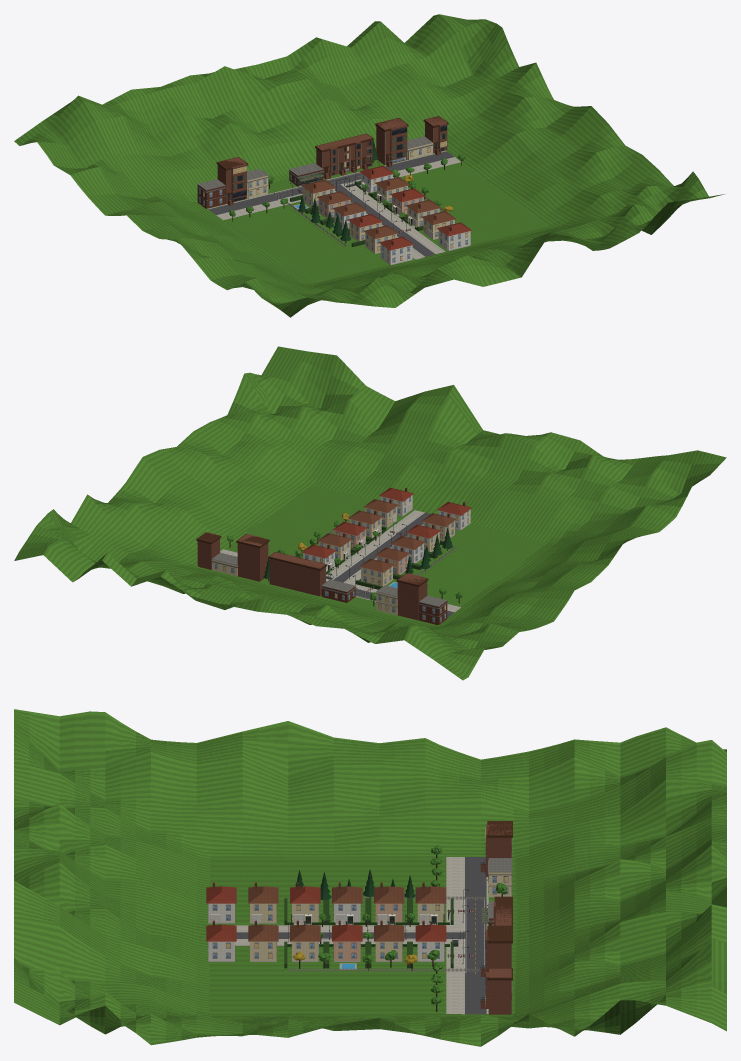
File: Suburbs.fbx
3 views of the same model, one above another, from view 1: azimuth 30°, elevation 25°; view 2: azimuth 150°, elevation 25°; view 3: azimuth 270°, elevation 25° (orthographic). The views are drawn at different scales.
Parts seen in each view (by area): view 1: Gnd_Hills, Ext_Lawns, Bldg_Upkeep, Bldg_ExtMain221, Bldg_ExtMain-482, Gnd_Lawns, Bldg_Ext-11, Bldg_Ext11, Bldg_ExtMain-481, Bldg_ExtMain223, Bldg_Groceries, Gnd_SidewalkE (+12 smaller); view 2: Gnd_Hills, Ext_Lawns, Bldg_Upkeep, Bldg_ExtMain221, Bldg_ExtMain-482, Gnd_Lawns, Bldg_House1, Bldg_ExtMain-481, Bldg_ExtMain223, Bldg_Groceries, Bldg_Ext-11, Bldg_Ext11 (+11 smaller); view 3: Gnd_Hills, Ext_Lawns, Gnd_Lawns, Gnd_MainRoad, Bldg_ExtMain223, Bldg_ExtMain221, Bldg_Ext11, Bldg_Ext10, Bldg_Ext-11, Bldg_Ext-10, Bldg_House6, Bldg_House1 (+16 smaller).
Part boxes in pixels (x1,y1,x2,y2): Gnd_Hills: [14, 14, 724, 317]; Ext_Lawns: [212, 153, 547, 283]; Bldg_Upkeep: [315, 133, 373, 177]; Bldg_ExtMain221: [375, 118, 408, 165]; Bldg_ExtMain-482: [216, 157, 248, 203]; Gnd_Lawns: [268, 160, 458, 248]; Bldg_Ext-11: [379, 236, 413, 265]; Bldg_Ext11: [437, 222, 471, 250]; Bldg_ExtMain-481: [197, 179, 226, 208]; Bldg_ExtMain223: [423, 116, 448, 153]; Bldg_Groceries: [288, 163, 324, 186]; Gnd_SidewalkE: [348, 187, 415, 232]; Gnd_Hills: [14, 346, 726, 680]; Ext_Lawns: [199, 485, 547, 625]; Bldg_Upkeep: [268, 552, 327, 596]; Bldg_ExtMain221: [236, 534, 269, 581]; Bldg_ExtMain-482: [396, 573, 428, 620]; Gnd_Lawns: [260, 521, 458, 611]; Bldg_House1: [359, 558, 394, 586]; Bldg_ExtMain-481: [418, 595, 447, 624]; Bldg_ExtMain223: [196, 532, 221, 569]; Bldg_Groceries: [321, 579, 357, 602]; Bldg_Ext-11: [437, 502, 471, 530]; Bldg_Ext11: [379, 487, 413, 516]; Gnd_Hills: [14, 709, 726, 1046]; Ext_Lawns: [208, 856, 516, 1014]; Gnd_Lawns: [284, 898, 517, 973]; Gnd_MainRoad: [465, 898, 486, 973]; Bldg_ExtMain223: [485, 968, 512, 1014]; Bldg_ExtMain221: [485, 925, 512, 974]; Bldg_Ext11: [206, 920, 236, 961]; Bldg_Ext10: [248, 920, 278, 961]; Bldg_Ext-11: [206, 882, 236, 923]; Bldg_Ext-10: [248, 882, 278, 923]; Bldg_House6: [332, 920, 362, 961]; Bldg_House1: [415, 882, 446, 924].
Bounding box in the file's own units: 184 × 25.8 × 187.
